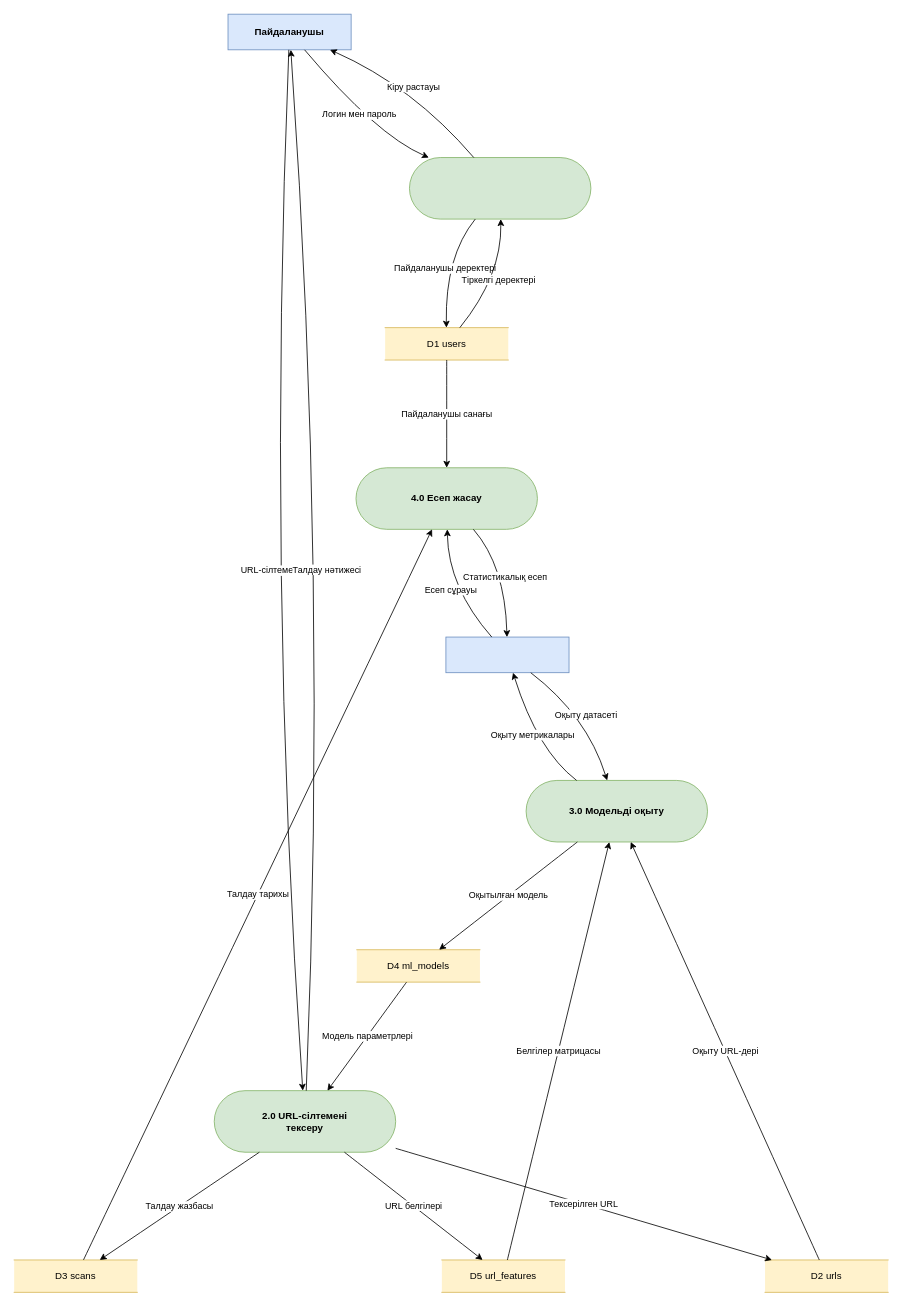
The diagram is 902 pixels wide and 1307 high, and some of its shapes have lost their labels. The shapes that lost their labels are listed below. From the top down, each one's centre as x and y in pixels, then its label:
At point (500, 188): "1.0 Пайдаланушыны тіркеу және авторизациялау".
At point (507, 654): "Әкімші".
